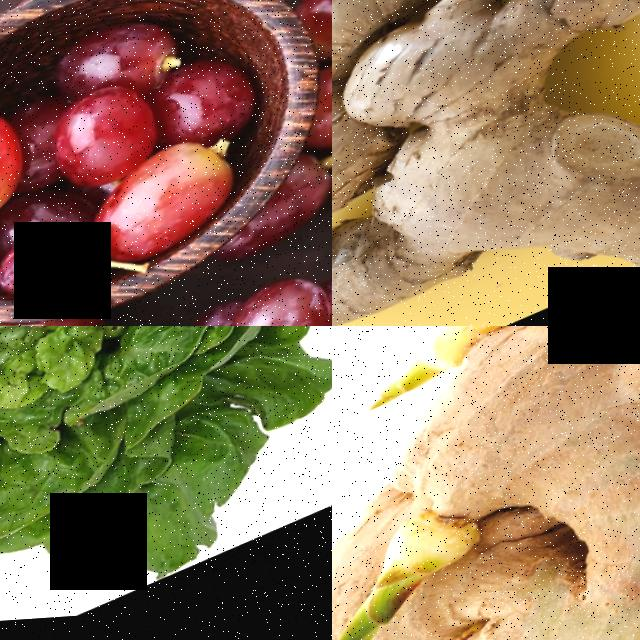ginger: (332, 0, 640, 326), (359, 326, 640, 640), (387, 478, 640, 640)
grapes: (0, 0, 302, 326), (0, 183, 332, 326)
lettuce: (0, 326, 332, 640)
